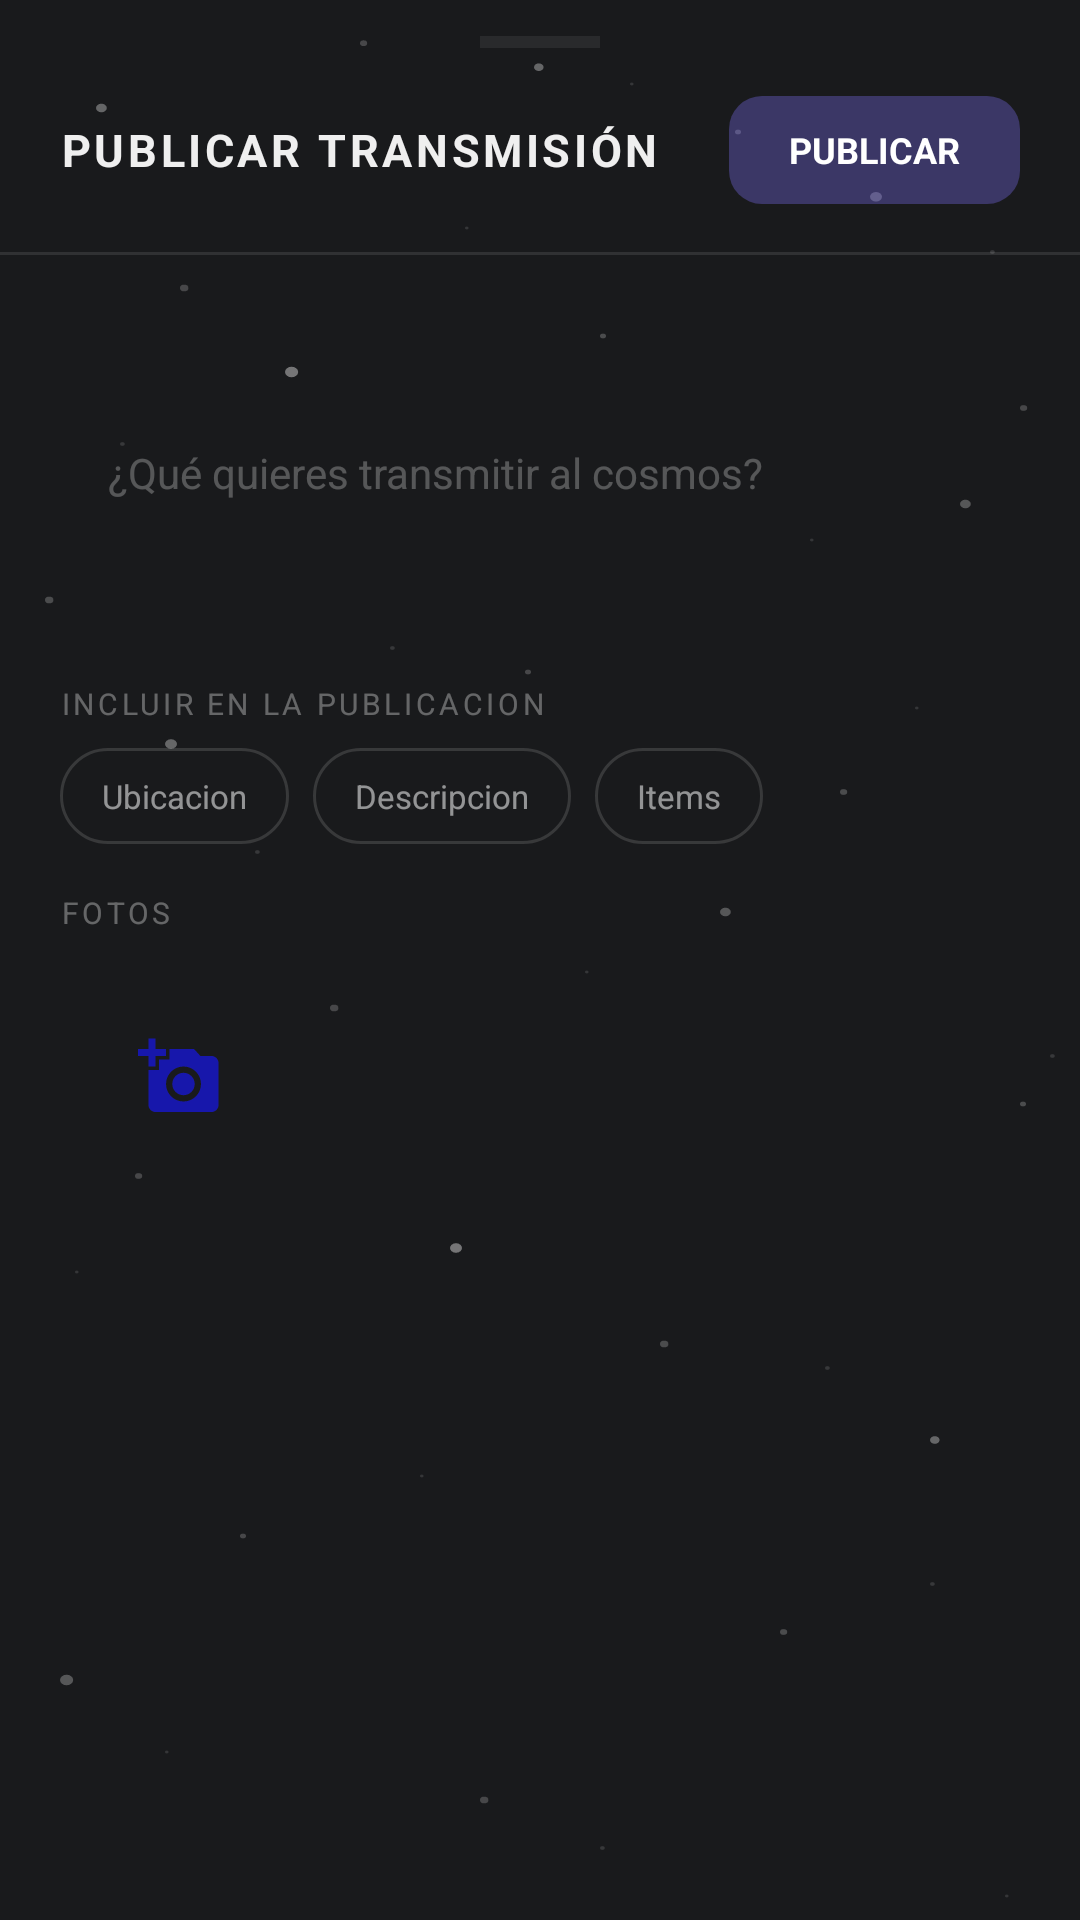

Screen size 1080 × 1920. Icon name, then its center in pixels as [x,y]:
add: [178,1075]
